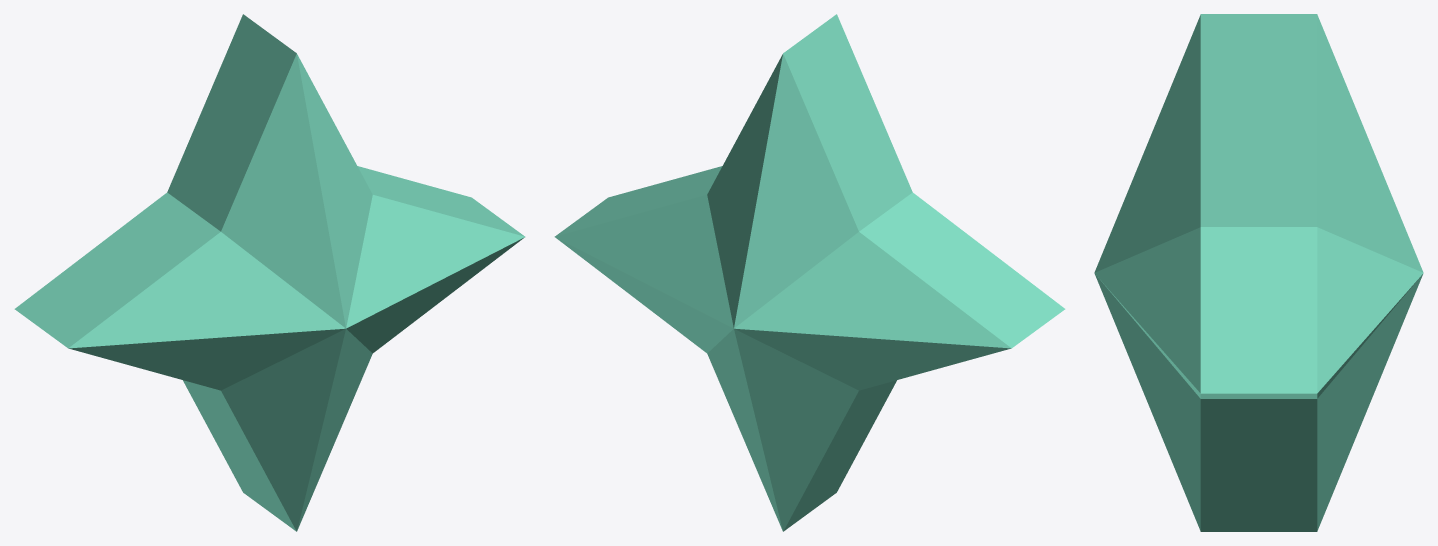
The model's file is ui_life_small star 3.fbx.
3 renders of one model, left to right at view 1: azimuth 30°, elevation 25°; view 2: azimuth 150°, elevation 25°; view 3: azimuth 270°, elevation 25°, orthographic. The views are drawn at different scales.
Parts seen in each view (by area): view 1: Circle_002; view 2: Circle_002; view 3: Circle_002.
Part boxes in pixels (x1,y1,x2,y2): Circle_002: (14,14,525,531); Circle_002: (554,14,1065,531); Circle_002: (1094,14,1423,531).
Size of the model in its own units: 400 by 400 by 231.
